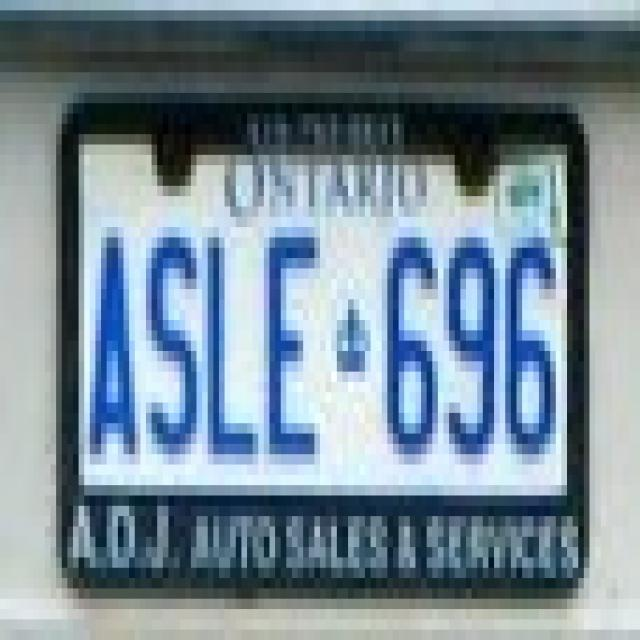licenseplate: (54, 87, 596, 603)
